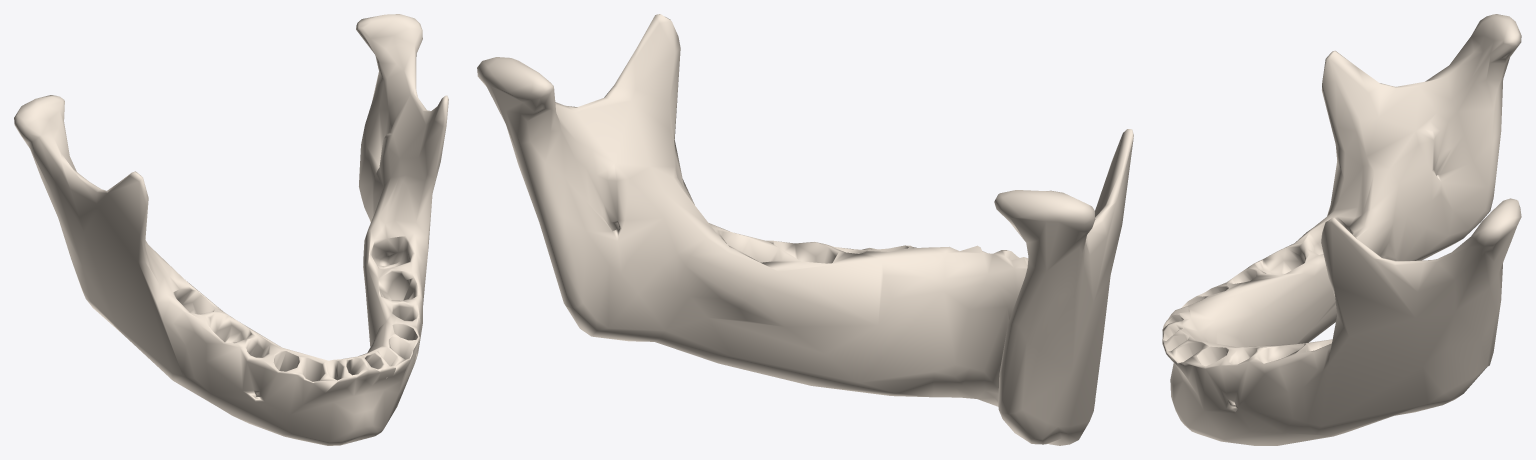
Rendered from mandible.glb.
3 views of the same model, side by side, from view 1: azimuth 30°, elevation 25°; view 2: azimuth 150°, elevation 25°; view 3: azimuth 270°, elevation 25° (orthographic). The views are drawn at different scales.
Visible parts, largest first — view 1: Mandible bone; view 2: Mandible bone; view 3: Mandible bone.
Part boxes in pixels (left/top/right/bottom): Mandible bone: left=14, top=14, right=448, bottom=445; Mandible bone: left=477, top=14, right=1133, bottom=445; Mandible bone: left=1162, top=14, right=1521, bottom=445.
Bounding box in the file's own units: 0.1125 × 0.075 × 0.0789.
